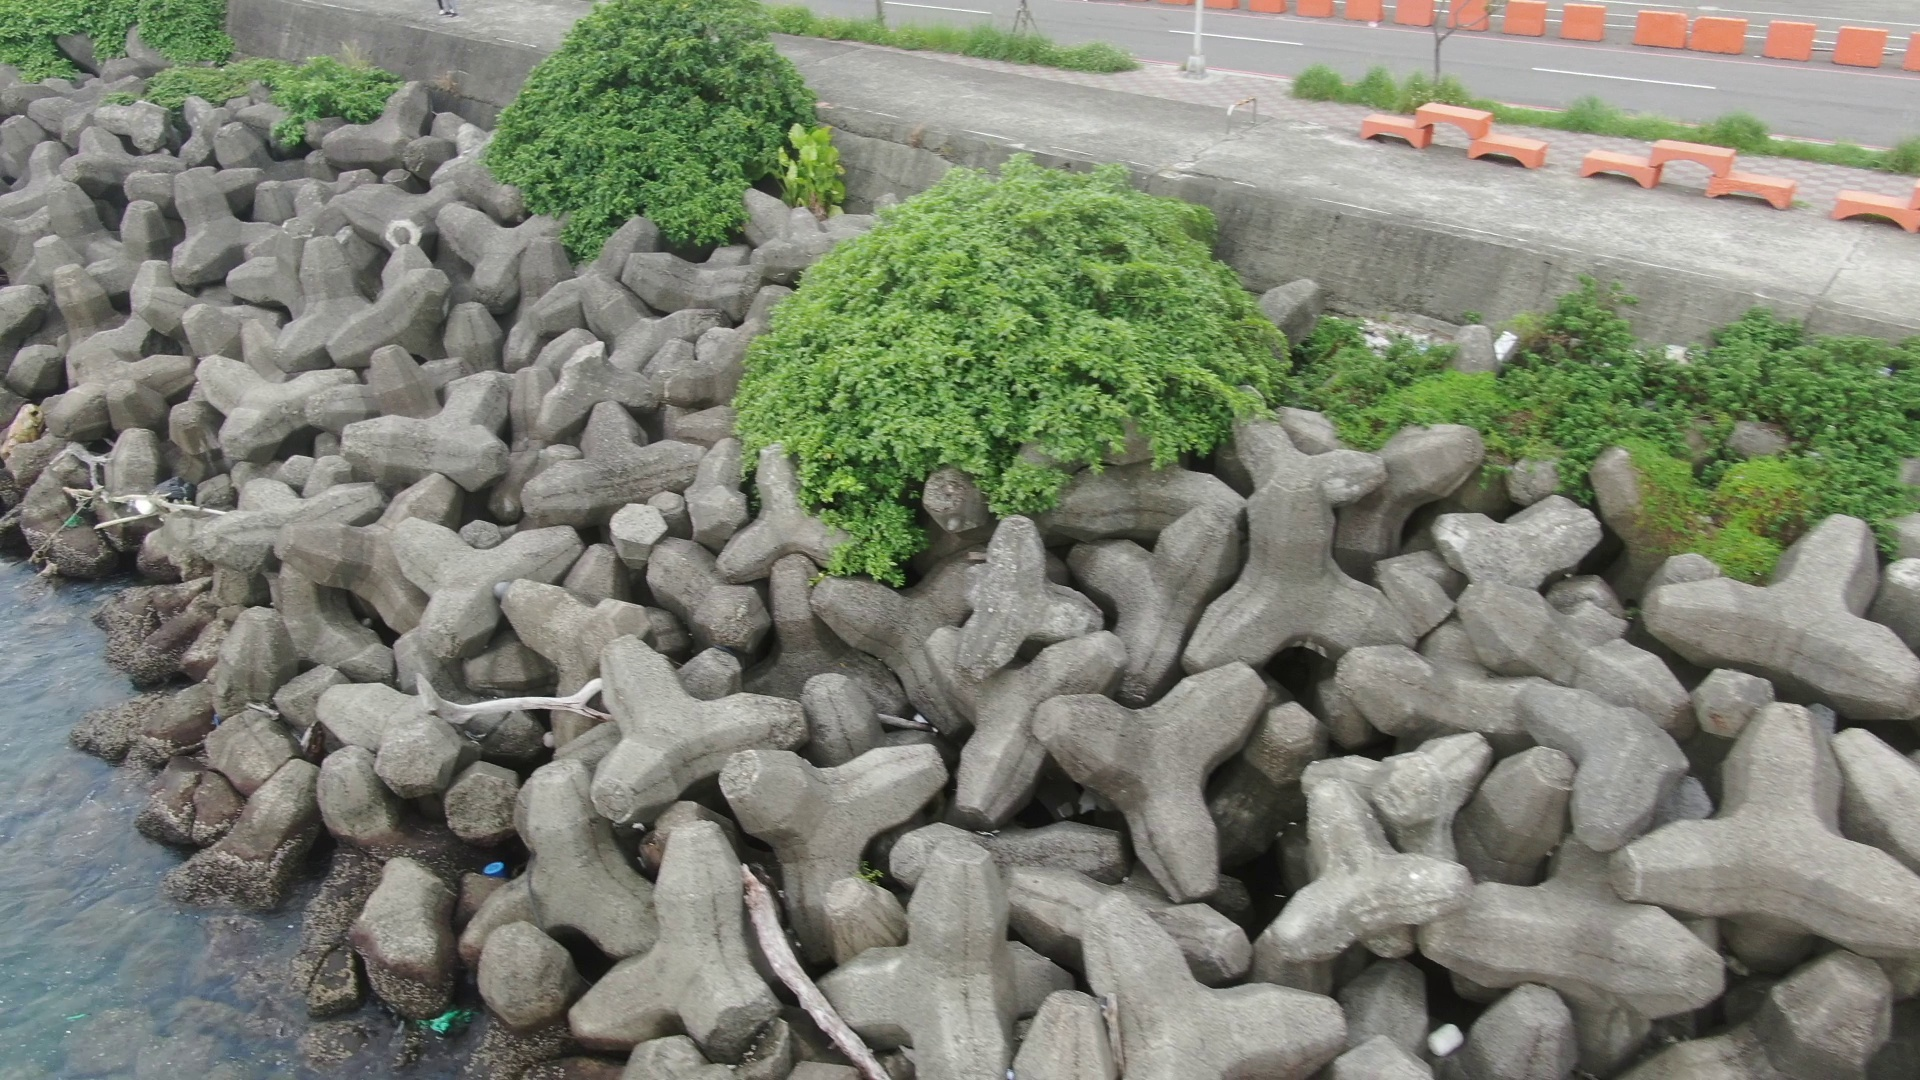garbage: (411, 1000, 483, 1044), (1427, 1013, 1466, 1067), (1489, 324, 1528, 365), (477, 851, 514, 884)
